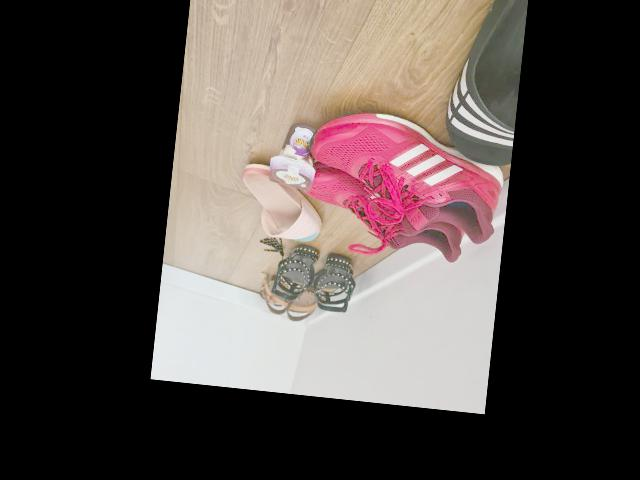milky: (268, 123, 321, 188)
